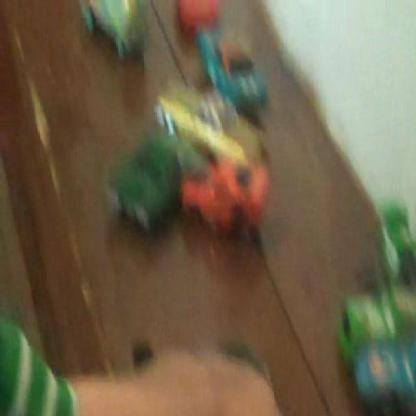other: (159, 79, 274, 233)
